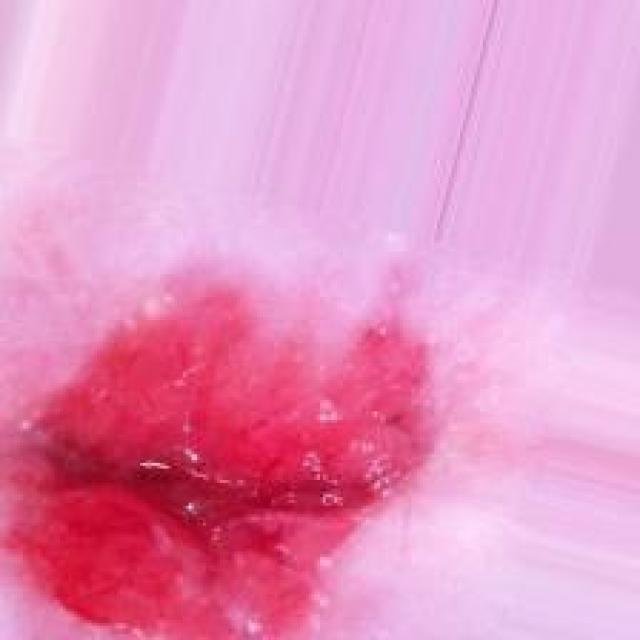type-1: (0, 151, 514, 639)
